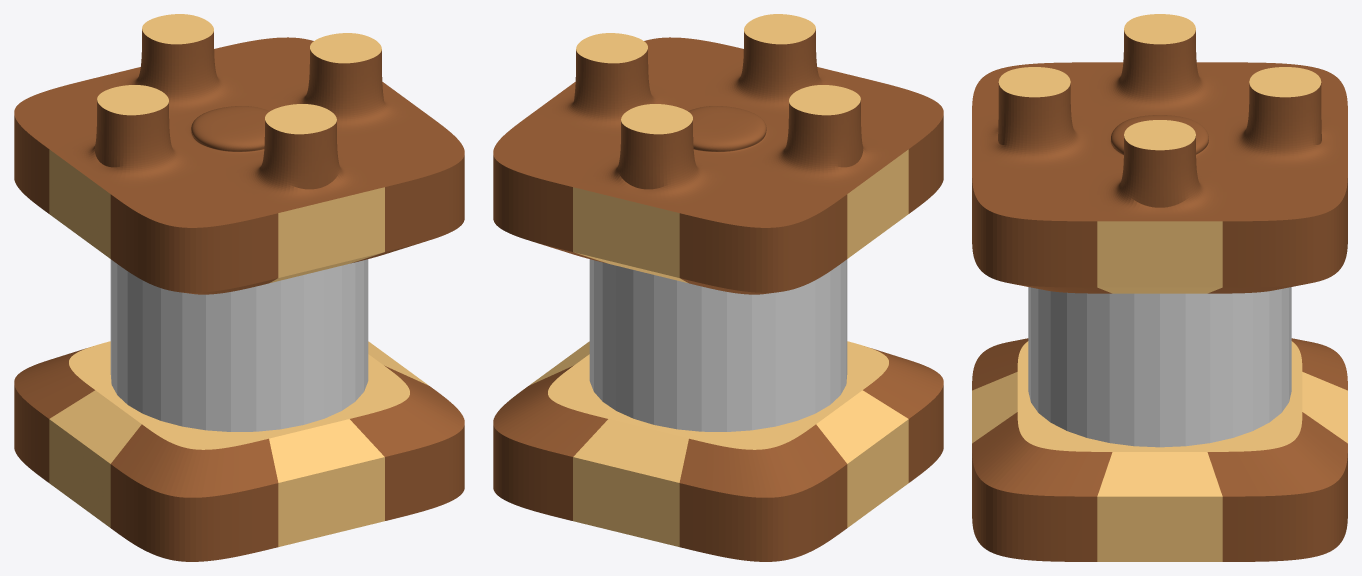
File: Generador5.fbx
The picture shows the model from 3 angles, left to right: view 1: azimuth 30°, elevation 25°; view 2: azimuth 150°, elevation 25°; view 3: azimuth 270°, elevation 25°; orthographic projection.
Visible parts, largest first — view 1: Bases, Vidrio; view 2: Bases, Vidrio; view 3: Bases, Vidrio.
Boxes of the visible parts, x1=… form: Bases: x1=14, y1=14, x2=464, y2=561; Vidrio: x1=110, y1=259, x2=368, y2=431; Bases: x1=493, y1=14, x2=943, y2=561; Vidrio: x1=589, y1=259, x2=847, y2=431; Bases: x1=972, y1=14, x2=1347, y2=561; Vidrio: x1=1028, y1=287, x2=1291, y2=447.
Size of the model in its own units: 200 by 235 by 200.
